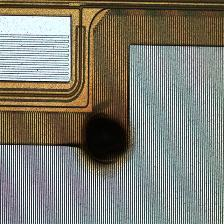PARTICLE: (74, 108, 138, 172)
